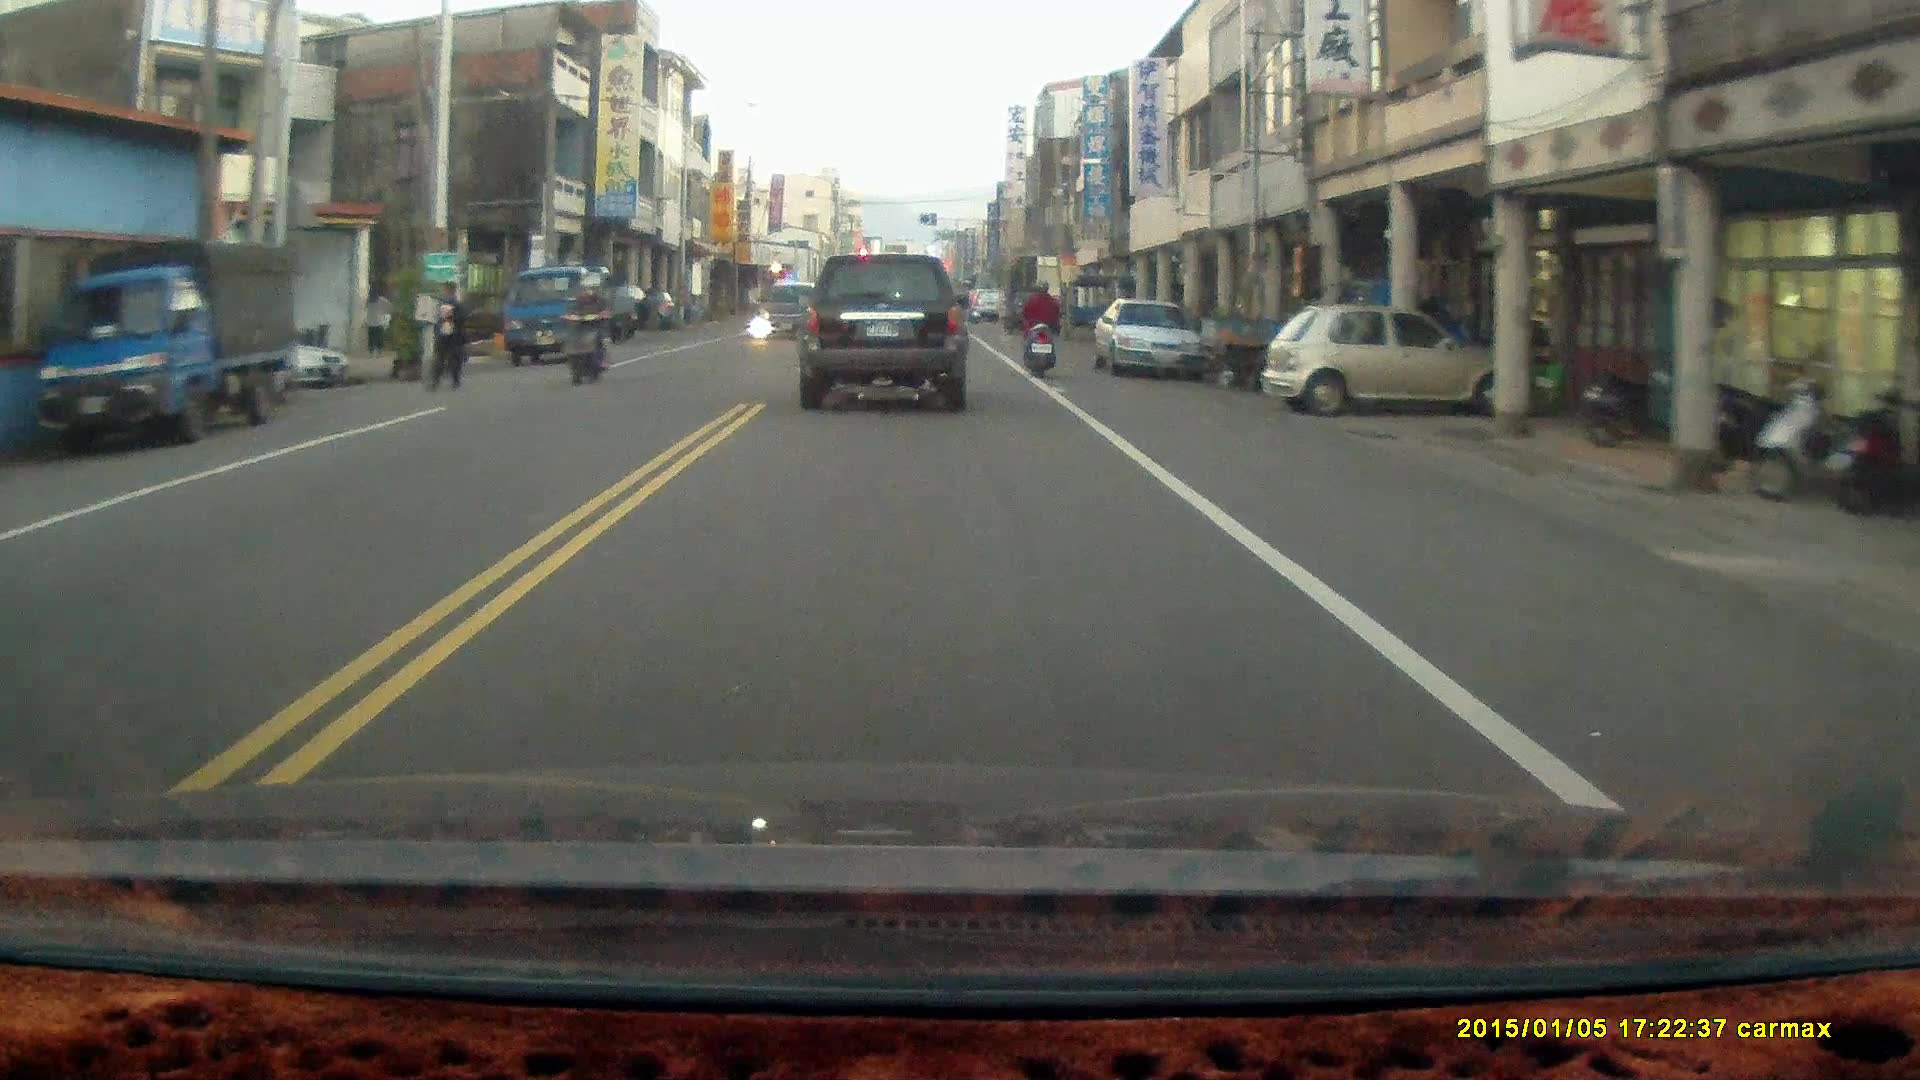pedestrian: (426, 274, 470, 394)
rider: (559, 277, 613, 386), (1020, 273, 1060, 373)
vehicle: (30, 240, 299, 453), (795, 250, 972, 414), (1264, 303, 1523, 414), (506, 264, 641, 363), (219, 317, 350, 392), (1095, 300, 1208, 379)
